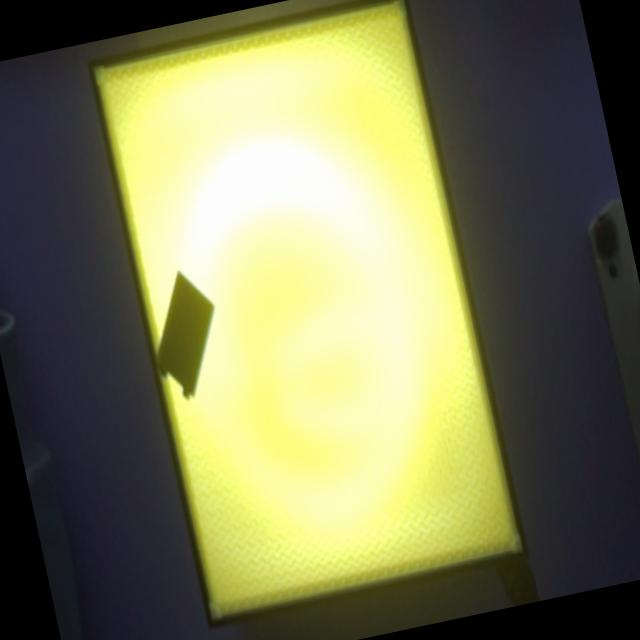bateria: (156, 270, 215, 399)
mesa: (86, 0, 530, 627)
